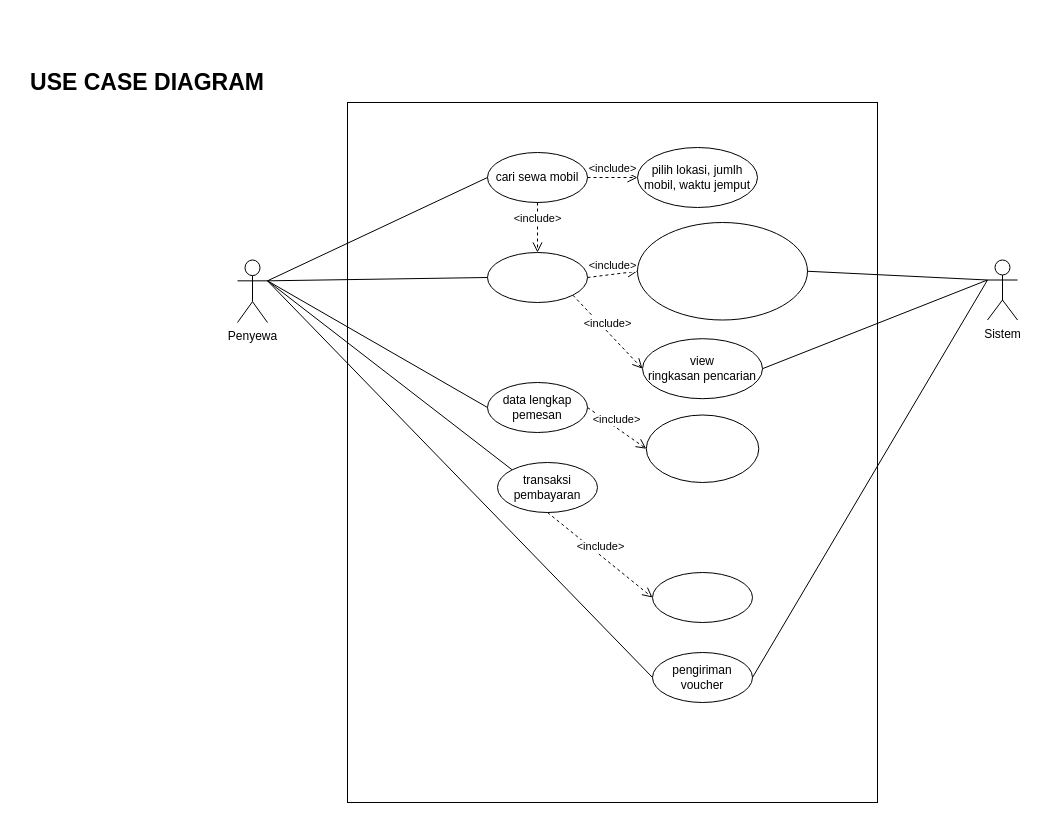
Some shapes in this 1038 by 820 pixel diagram are drawn without their labels. Here are the shapes that lost their labels. From the top down, the box of each, then its label:
(486, 252, 588, 302): pilih mobil
(636, 222, 808, 320): view harga, bagasi, jmlh penumpang, nama vendor pilihan mobil
(645, 414, 759, 482): input nama, email, telepon, ktp
(652, 572, 752, 622): pilih metode pembayaran
